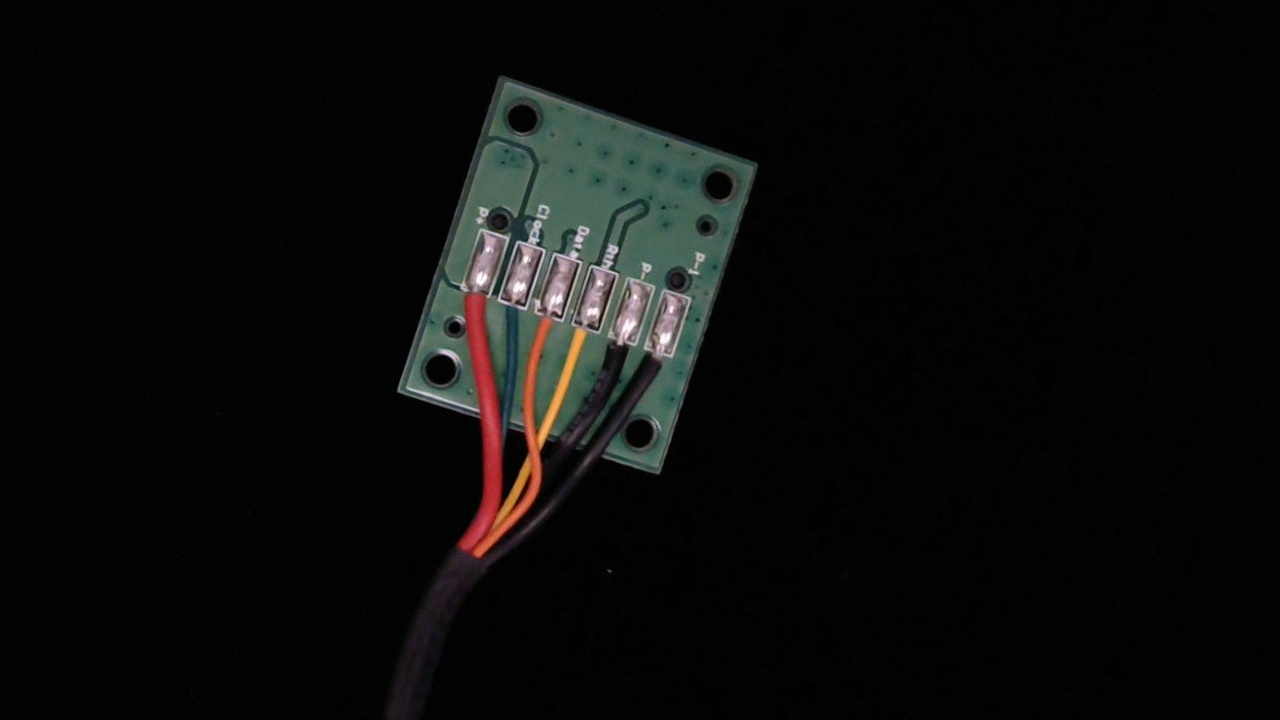Black: (592, 315, 647, 395)
Black1: (631, 330, 683, 404)
Green: (486, 282, 535, 348)
Orange: (520, 294, 572, 373)
Red: (445, 271, 498, 348)
Yellow: (551, 304, 606, 385)
